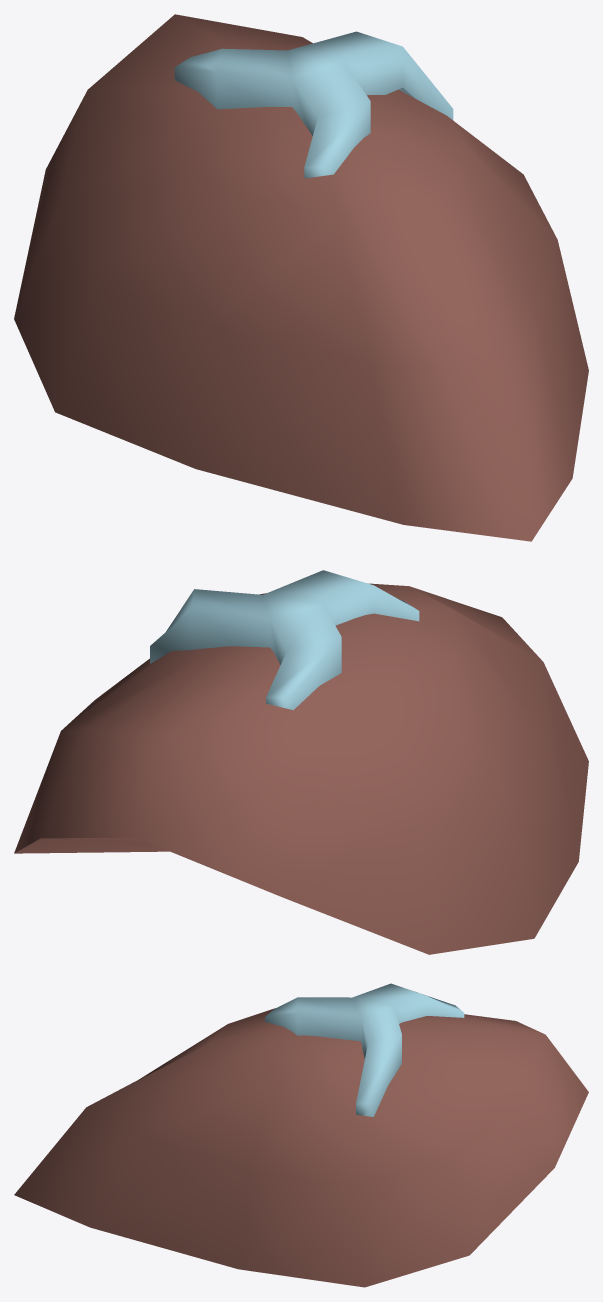
The model's file is DragonScaleCharm.fbx.
The picture shows the model from 3 angles, top to bottom: view 1: azimuth 30°, elevation 25°; view 2: azimuth 150°, elevation 25°; view 3: azimuth 270°, elevation 25°; orthographic projection. The views are drawn at different scales.
Visible parts, largest first — view 1: DragonScaleCharm; view 2: DragonScaleCharm; view 3: DragonScaleCharm.
Part boxes in pixels (<box>): DragonScaleCharm: <box>14,14,588,541</box>; DragonScaleCharm: <box>14,570,588,954</box>; DragonScaleCharm: <box>14,983,588,1287</box>.
Size of the model in its own units: 2 by 1.1 by 2.88.
